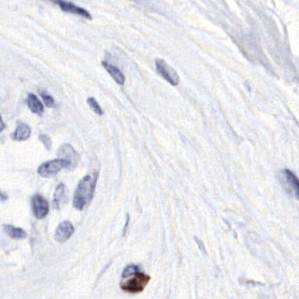Lymphocyte: (117, 270, 153, 292)
